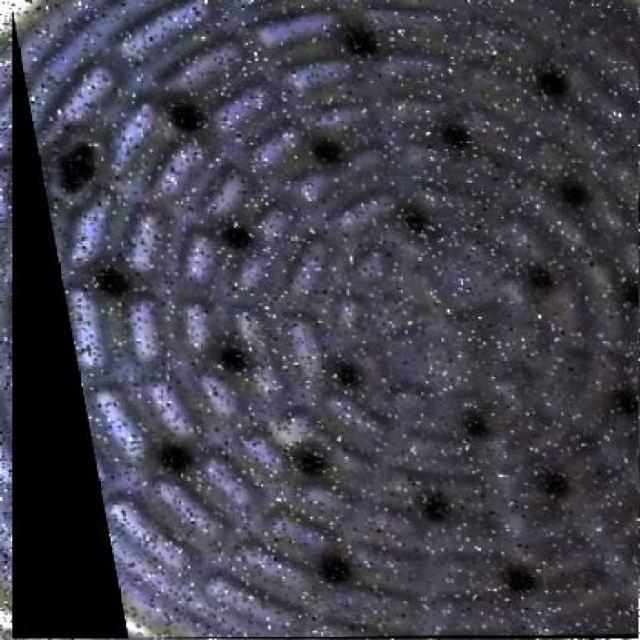Manhole: (12, 11, 638, 638)
